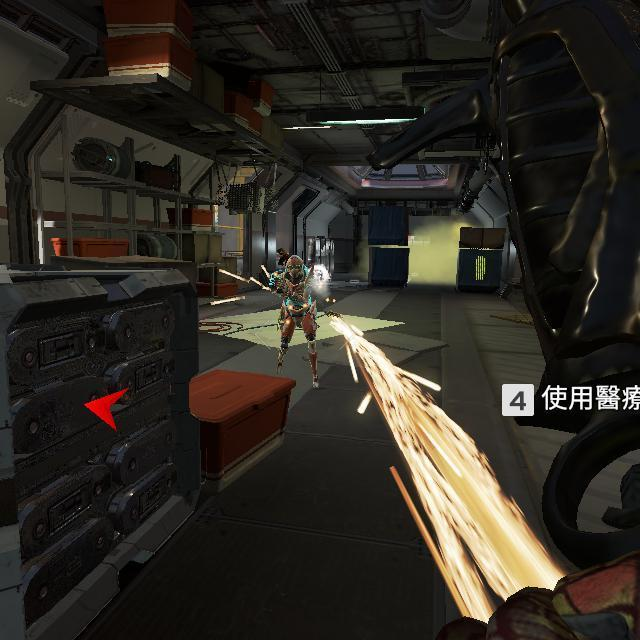avatar: (267, 252, 332, 391)
